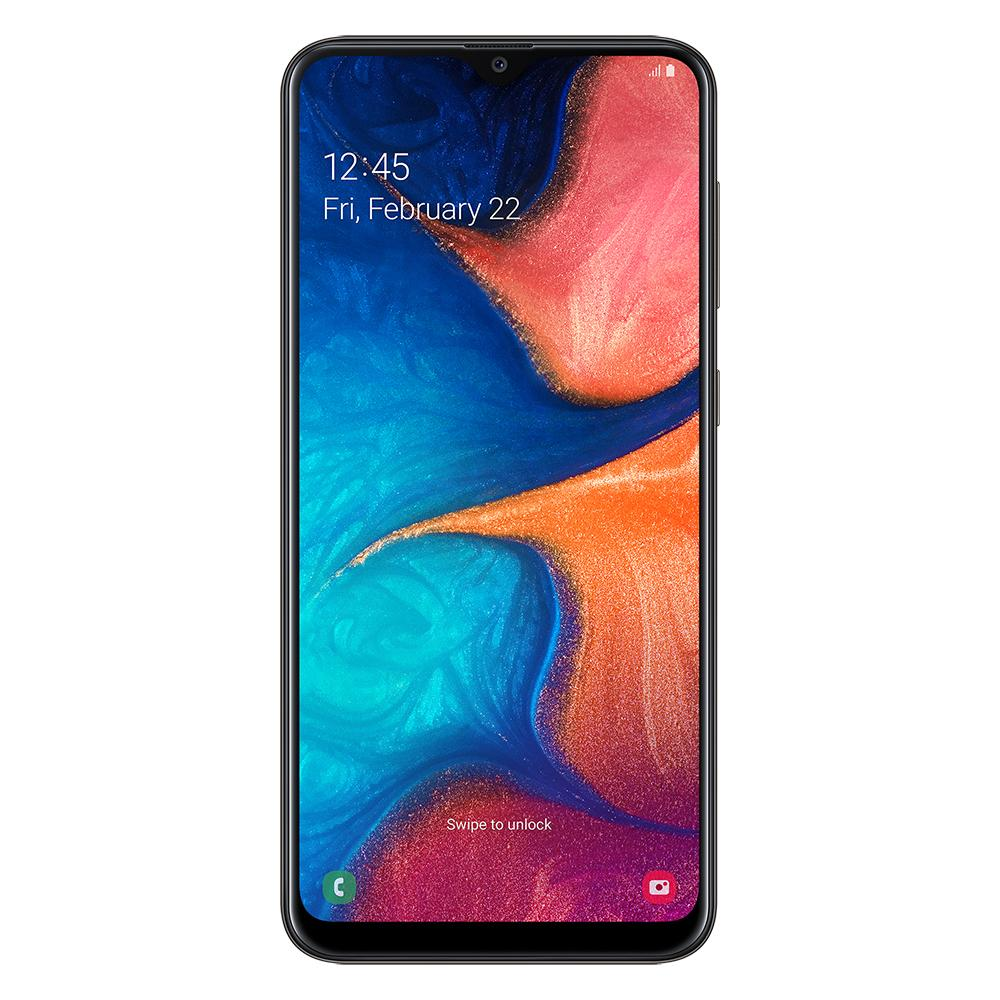Mobile Phone: (225, 16, 753, 978)
